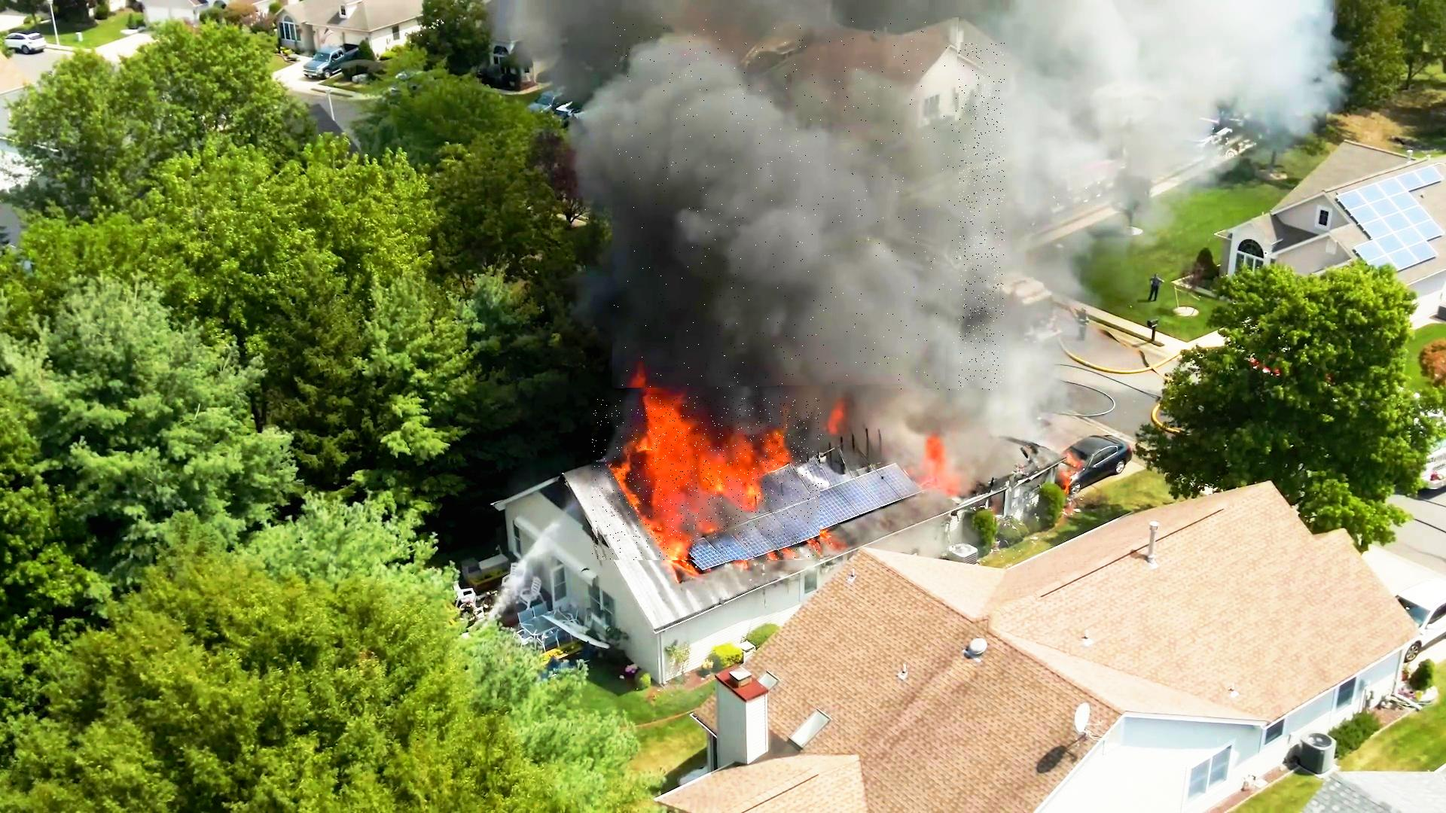fire: (593, 396, 822, 560)
smoke: (612, 17, 959, 389), (881, 43, 1005, 391)
